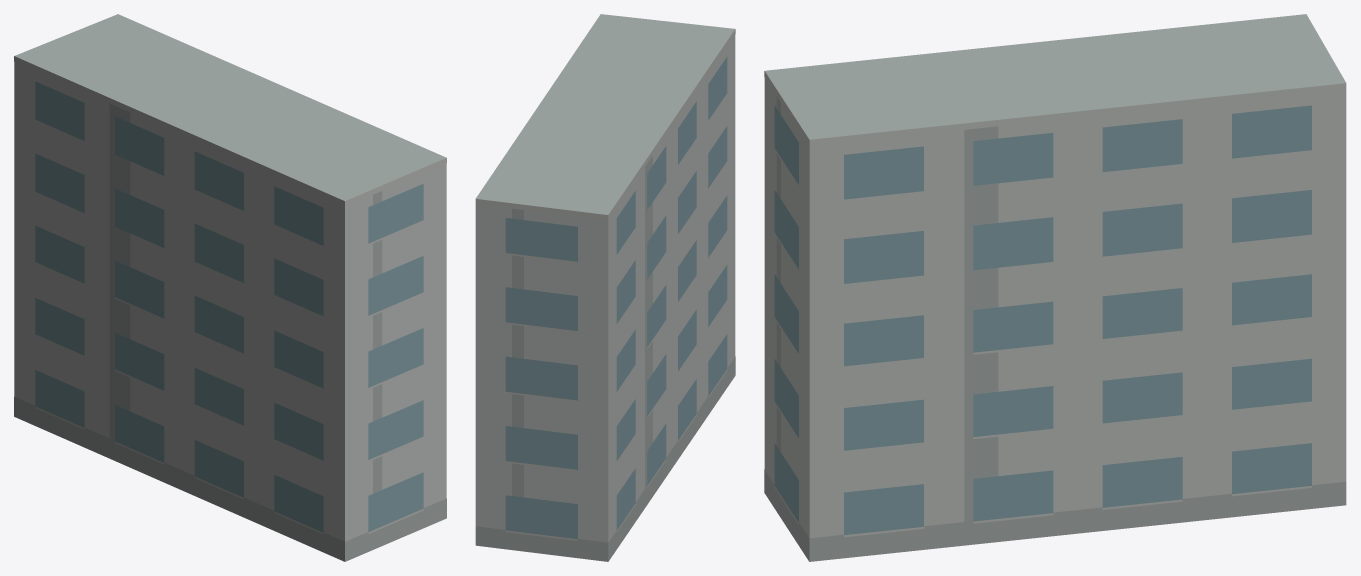
Rendered from survey-upis-32715177.glb.
3 views of the same model, side by side, from view 1: azimuth 30°, elevation 25°; view 2: azimuth 150°, elevation 25°; view 3: azimuth 270°, elevation 25° (orthographic). The views are drawn at different scales.
Visible parts, largest first — view 1: survey-upis-32715177.tmp; view 2: survey-upis-32715177.tmp; view 3: survey-upis-32715177.tmp.
Boxes of the visible parts, x1,y1,x2,y2 form: survey-upis-32715177.tmp: [14, 14, 446, 561]; survey-upis-32715177.tmp: [475, 14, 735, 561]; survey-upis-32715177.tmp: [764, 14, 1346, 561].
Size of the model in its own units: 10.23 by 16 by 20.
